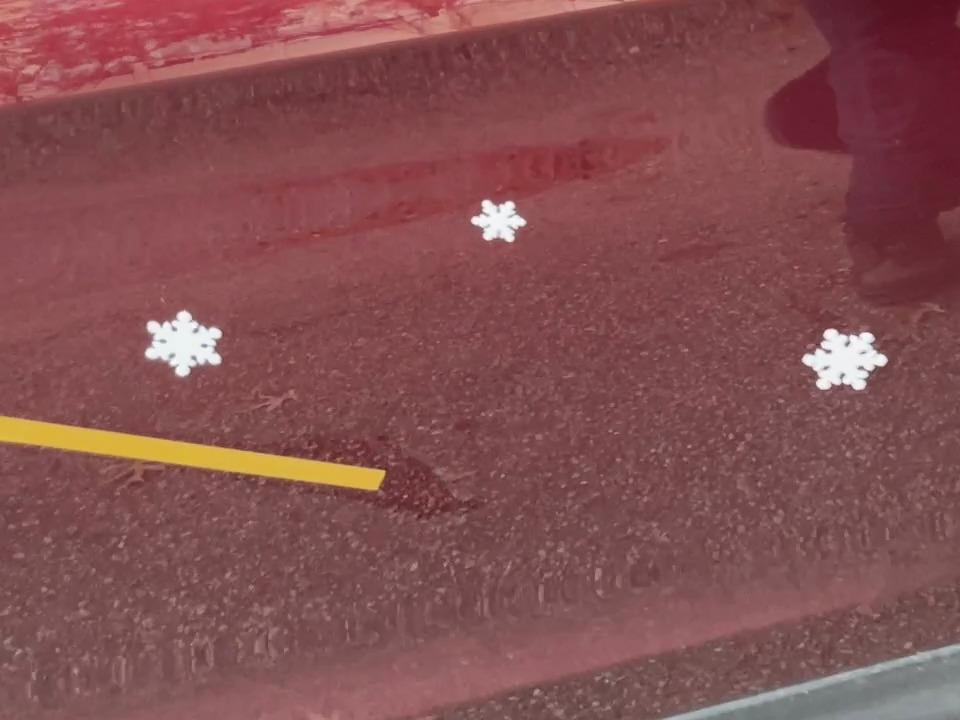dent: (128, 305, 243, 397), (795, 311, 899, 401), (465, 188, 543, 256)
scratch: (0, 403, 398, 508), (199, 0, 321, 1)
